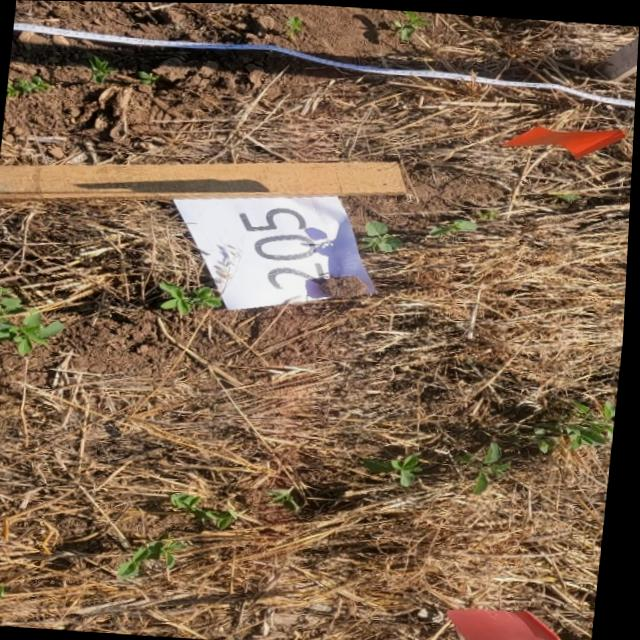soy_plant: (0, 285, 67, 354), (125, 535, 193, 577), (566, 398, 620, 446), (177, 491, 247, 528), (163, 280, 226, 315), (368, 453, 426, 485), (481, 440, 514, 491), (365, 219, 406, 250), (396, 9, 429, 38), (8, 75, 51, 97), (432, 216, 480, 234), (276, 485, 308, 509), (90, 55, 117, 82), (540, 426, 556, 450), (130, 70, 159, 83), (0, 583, 12, 612), (288, 14, 303, 33)
